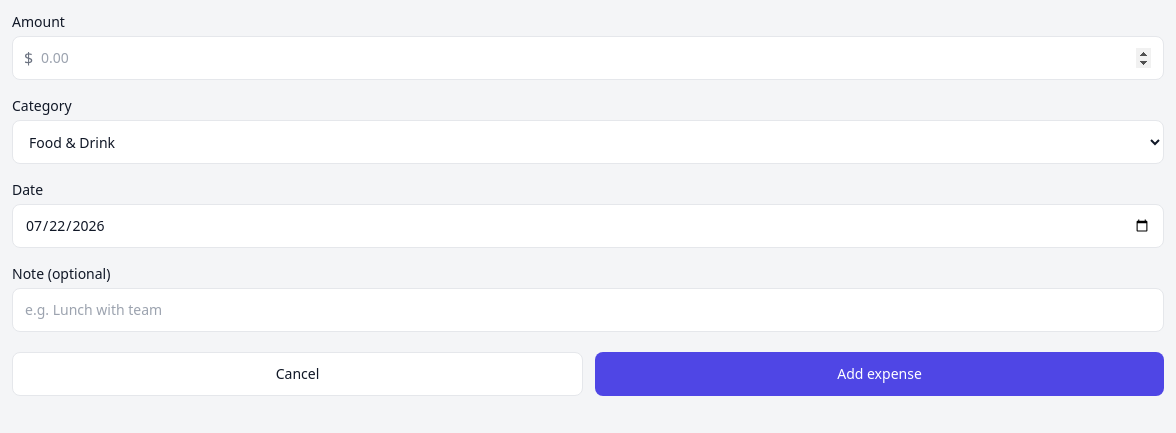
ExpenseForm › blocks submit and shows a message when the amount is empty
Click the button "Add expense": (880, 374) [595,352,1164,396]
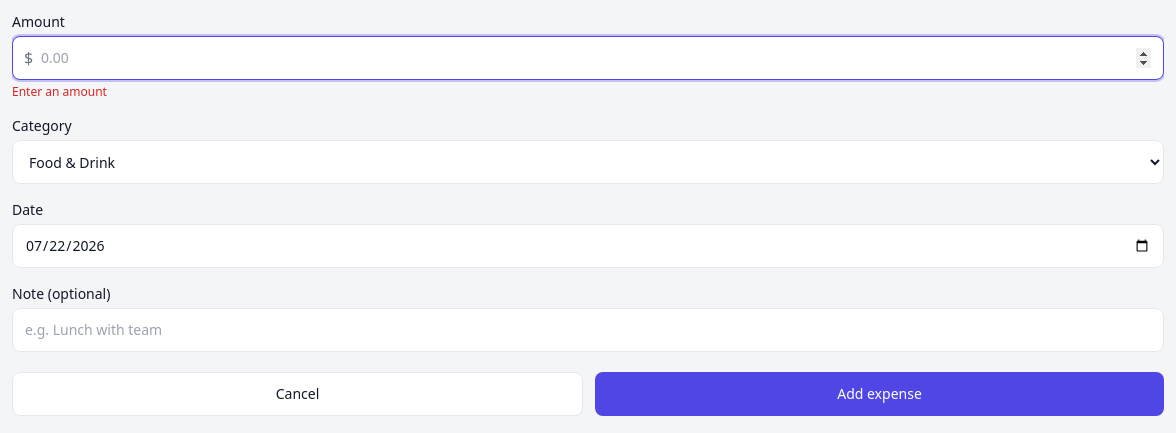
Expected: the text "Enter an amount" is shown, [12,83,107,100]
